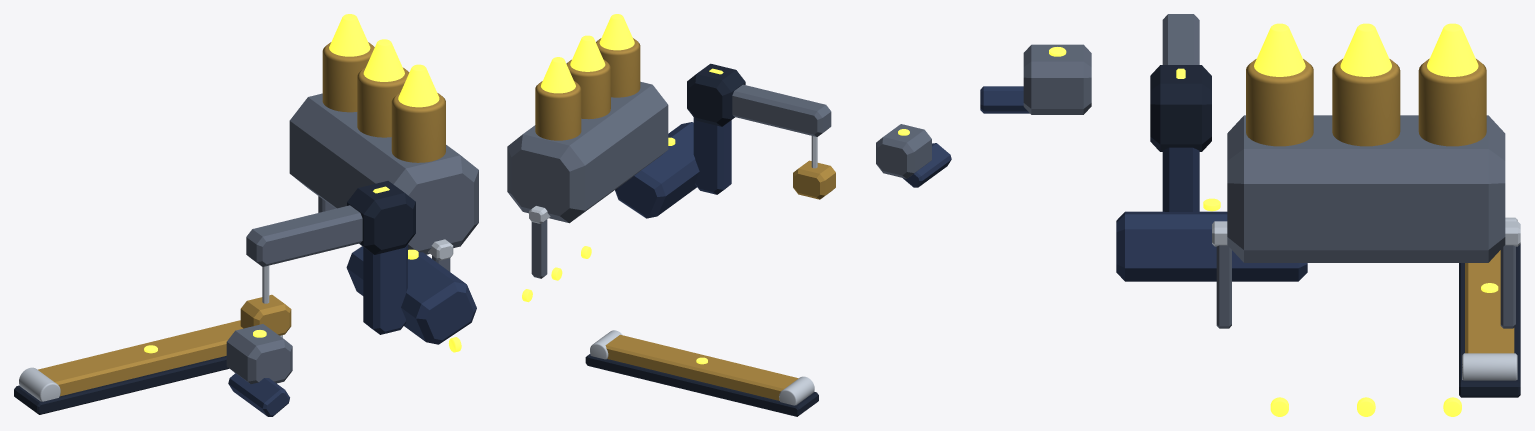
The model's file is tower_nova_rate_s8.glb.
3 renders of one model, left to right at view 1: azimuth 30°, elevation 25°; view 2: azimuth 150°, elevation 25°; view 3: azimuth 270°, elevation 25°, orthographic. The views are drawn at different scales.
Visible parts, largest first — view 1: nova_hopper_ext, nova_conveyor, nova_hoist_chute_b, nova_hoist_arm, nova_hoist_motor, nova_hoist_post, nova_shell_b0, nova_ejector_box, nova_conveyor_frame, nova_shell_b2, nova_shell_b1, nova_ejector_chute (+5 smaller); view 2: nova_hopper_ext, nova_conveyor, nova_hoist_chute_b, nova_hoist_arm, nova_conveyor_frame, nova_hoist_motor, nova_hoist_post, nova_shell_b2, nova_ejector_box, nova_shell_b0, nova_shell_b1, nova_hoist_grab (+7 smaller); view 3: nova_hopper_ext, nova_hoist_chute_b, nova_hoist_motor, nova_shell_b2, nova_shell_b1, nova_shell_b0, nova_ejector_box, nova_conveyor, nova_hoist_post, nova_conveyor_frame, nova_shell_b_fuse1, nova_shell_b_fuse2 (+7 smaller).
Boxes of the visible parts, bbox=[...] form: nova_hopper_ext: bbox=[289, 93, 478, 254]; nova_conveyor: bbox=[38, 320, 242, 396]; nova_hoist_chute_b: bbox=[346, 246, 476, 344]; nova_hoist_arm: bbox=[246, 205, 362, 266]; nova_hoist_motor: bbox=[347, 181, 415, 254]; nova_hoist_post: bbox=[363, 244, 407, 334]; nova_shell_b0: bbox=[391, 93, 445, 162]; nova_ejector_box: bbox=[226, 324, 292, 383]; nova_conveyor_frame: bbox=[14, 356, 229, 414]; nova_shell_b2: bbox=[322, 42, 374, 112]; nova_shell_b1: bbox=[357, 67, 409, 137]; nova_ejector_chute: bbox=[228, 373, 289, 416]; nova_hopper_ext: bbox=[507, 81, 668, 223]; nova_conveyor: bbox=[605, 334, 798, 400]; nova_hoist_chute_b: bbox=[615, 122, 699, 218]; nova_hoist_arm: bbox=[732, 84, 831, 136]; nova_conveyor_frame: bbox=[585, 354, 818, 416]; nova_hoist_motor: bbox=[687, 63, 745, 126]; nova_hoist_post: bbox=[693, 117, 731, 194]; nova_shell_b2: bbox=[535, 81, 581, 140]; nova_ejector_box: bbox=[876, 124, 931, 178]; nova_shell_b0: bbox=[596, 38, 640, 97]; nova_shell_b1: bbox=[566, 59, 610, 119]; nova_hoist_grab: bbox=[793, 160, 835, 199]; nova_hopper_ext: bbox=[1227, 115, 1505, 262]; nova_hoist_chute_b: bbox=[1116, 211, 1307, 281]; nova_hoist_motor: bbox=[1150, 65, 1211, 151]; nova_shell_b2: bbox=[1418, 58, 1486, 146]; nova_shell_b1: bbox=[1332, 59, 1400, 146]; nova_shell_b0: bbox=[1246, 59, 1313, 146]; nova_ejector_box: bbox=[1023, 44, 1091, 114]; nova_conveyor: bbox=[1465, 250, 1514, 353]; nova_hoist_post: bbox=[1162, 147, 1199, 211]; nova_conveyor_frame: bbox=[1459, 244, 1520, 397]; nova_shell_b_fuse1: bbox=[1340, 23, 1391, 76]; nova_shell_b_fuse2: bbox=[1427, 23, 1478, 76].
Size of the model in its own units: 1.66 by 1.46 by 1.75.
